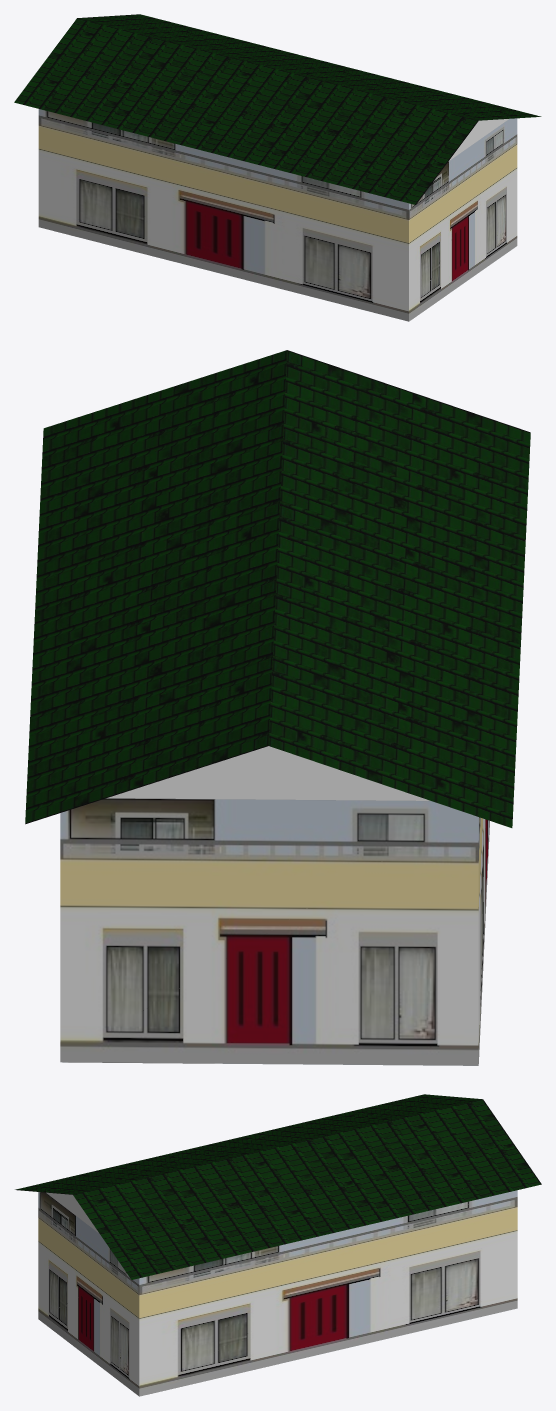
The picture shows the model from 3 angles, top to bottom: view 1: azimuth 30°, elevation 25°; view 2: azimuth 150°, elevation 25°; view 3: azimuth 270°, elevation 25°; orthographic projection. The views are drawn at different scales.
Visible parts, largest first — view 1: CityEngineMaterial_15_m, CityEngineMaterial_13_m, CityEngineMaterial_3_m; view 2: CityEngineMaterial_13_m, CityEngineMaterial_15_m, CityEngineMaterial_3_m; view 3: CityEngineMaterial_15_m, CityEngineMaterial_13_m, CityEngineMaterial_3_m.
Part boxes in pixels (x1,y1,x2,y2): CityEngineMaterial_15_m: (38, 109, 517, 321); CityEngineMaterial_13_m: (14, 14, 541, 204); CityEngineMaterial_3_m: (448, 119, 508, 161); CityEngineMaterial_13_m: (25, 350, 530, 827); CityEngineMaterial_15_m: (60, 798, 489, 1065); CityEngineMaterial_3_m: (107, 746, 430, 800); CityEngineMaterial_15_m: (38, 1190, 517, 1396); CityEngineMaterial_13_m: (15, 1094, 541, 1279); CityEngineMaterial_3_m: (46, 1192, 99, 1233).
Size of the model in its own units: 24.04 by 10.06 by 28.87.
